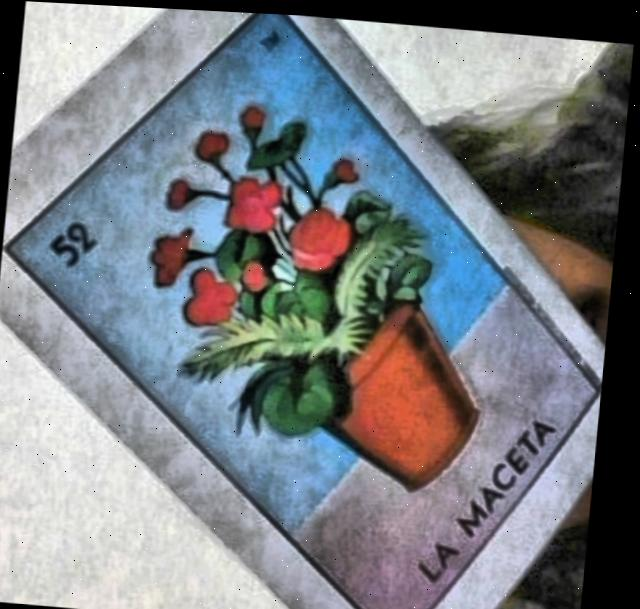La Maceta: (15, 11, 599, 609)
